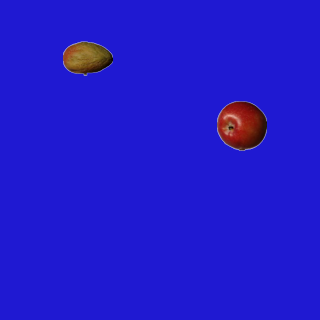Apple Braeburn: (216, 100, 266, 150)
Papaya: (62, 33, 112, 83)
